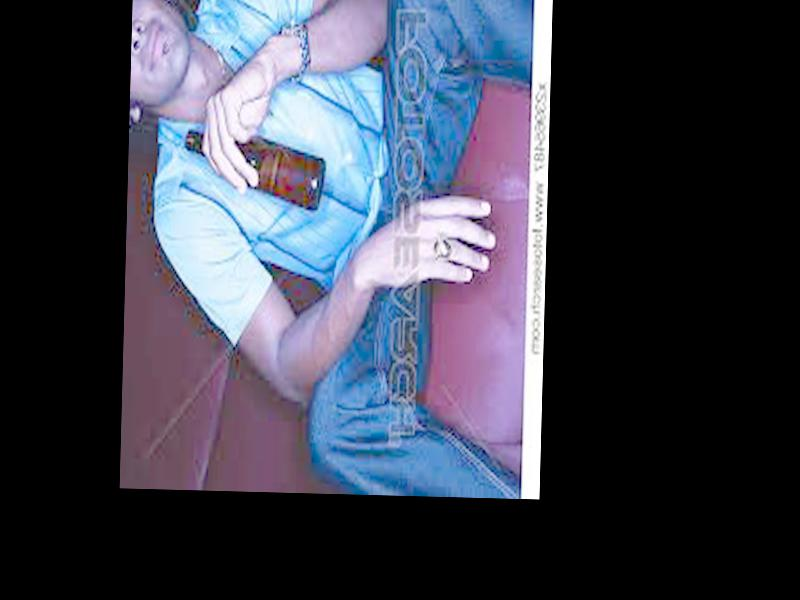Beer: (182, 128, 325, 213)
